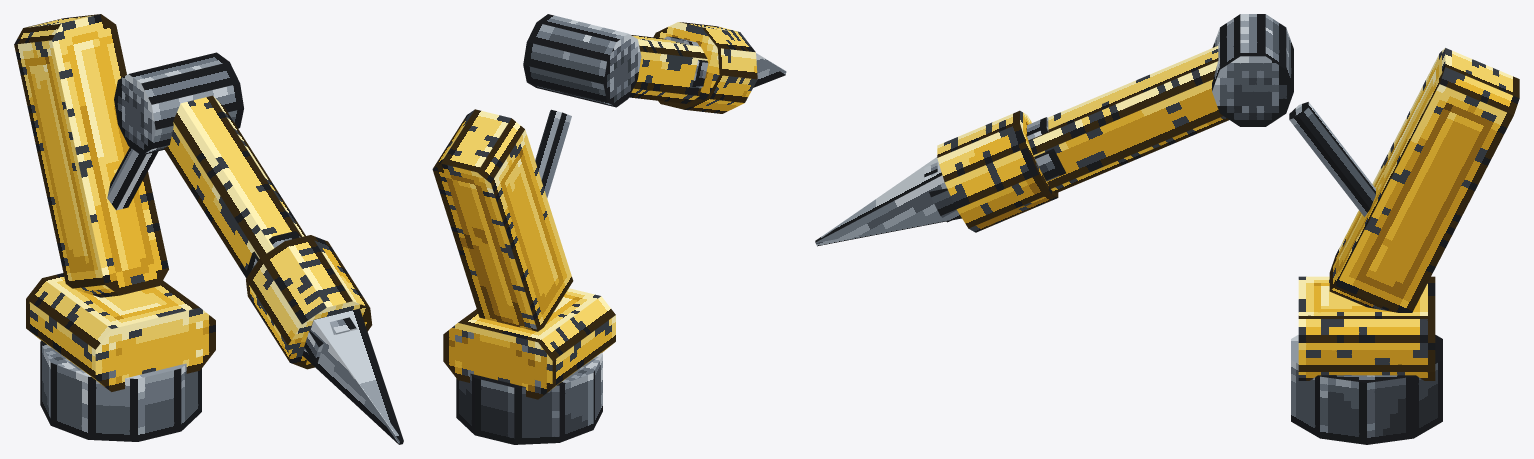
The model's file is cy_drill.glb.
3 renders of one model, left to right at view 1: azimuth 30°, elevation 25°; view 2: azimuth 150°, elevation 25°; view 3: azimuth 270°, elevation 25°, orthographic. The views are drawn at different scales.
Parts seen in each view (by area): view 1: boom, base, fore, turret, motor, elbow, bit, piston, chuck, wrist; view 2: boom, base, turret, elbow, motor, fore, piston, bit, wrist; view 3: boom, fore, base, turret, motor, elbow, bit, piston, wrist, chuck.
Part boxes in pixels (<box>): boom: <box>14,14,168,297</box>; base: <box>26,273,215,391</box>; fore: <box>164,95,305,278</box>; turret: <box>40,340,201,441</box>; motor: <box>246,235,372,369</box>; elbow: <box>114,52,243,155</box>; bit: <box>302,308,403,444</box>; piston: <box>107,147,158,210</box>; chuck: <box>304,317,357,364</box>; wrist: <box>246,231,300,273</box>; boom: <box>432,109,573,331</box>; base: <box>443,288,615,399</box>; turret: <box>456,353,602,444</box>; elbow: <box>523,14,641,107</box>; motor: <box>653,22,757,113</box>; fore: <box>629,35,707,103</box>; piston: <box>535,109,571,197</box>; bit: <box>753,53,786,87</box>; wrist: <box>664,36,708,87</box>; boom: <box>1329,48,1519,312</box>; fore: <box>1028,46,1228,193</box>; base: <box>1298,276,1435,380</box>; turret: <box>1291,335,1442,444</box>; motor: <box>937,110,1058,232</box>; elbow: <box>1212,14,1293,126</box>; bit: <box>815,157,961,246</box>; piston: <box>1289,102,1375,216</box>; wrist: <box>1027,117,1065,181</box>; chuck: <box>924,162,956,222</box>.
Bounding box in the file's own units: 7 × 18.21 × 30.92.
Materials: 1 (1 with a texture image).
